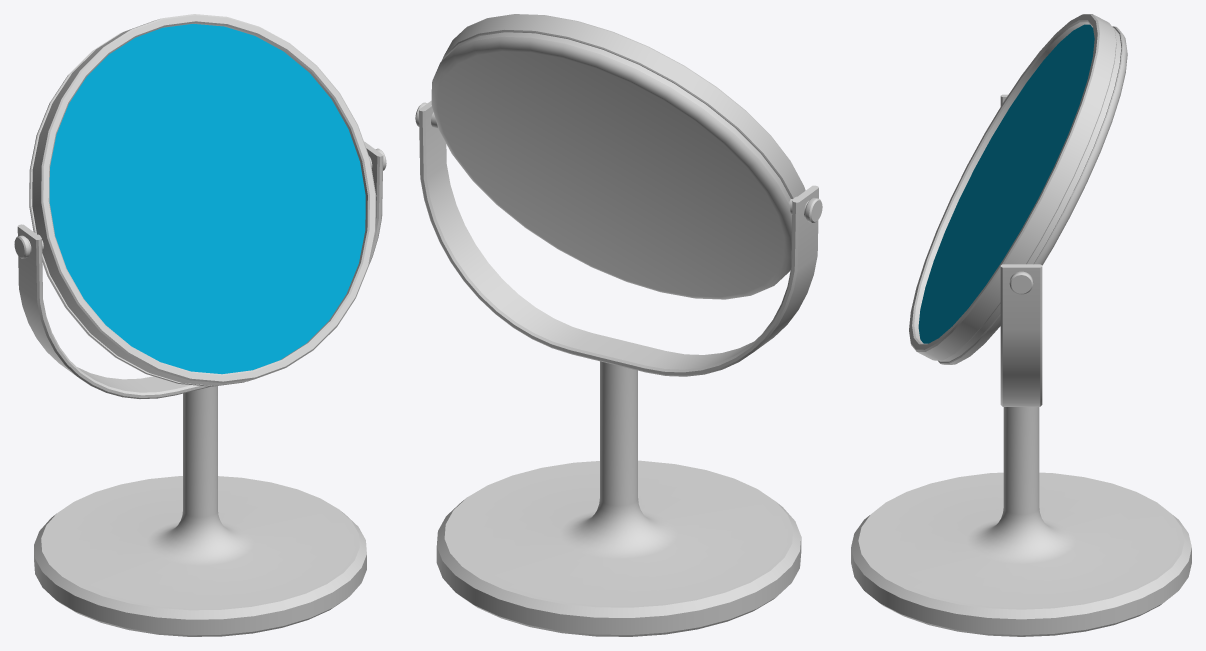
The model's file is table_mirror.fbx.
The picture shows the model from 3 angles, left to right: view 1: azimuth 30°, elevation 25°; view 2: azimuth 150°, elevation 25°; view 3: azimuth 270°, elevation 25°; orthographic projection. The views are drawn at different scales.
Visible parts, largest first — view 1: Table_mirror; view 2: Table_mirror; view 3: Table_mirror.
Part boxes in pixels (box(x1,y1,x2,y2)): Table_mirror: box(14, 14, 386, 636); Table_mirror: box(415, 14, 822, 636); Table_mirror: box(851, 14, 1191, 636).
Bounding box in the file's own units: 15.03 × 20.7 × 12.
